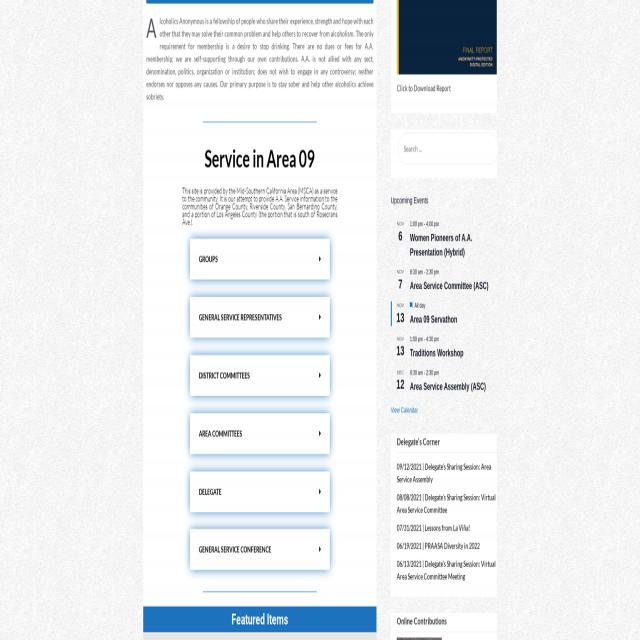button: (397, 0, 497, 75), (190, 355, 330, 398), (189, 412, 330, 453), (190, 237, 330, 278), (189, 529, 331, 569), (190, 298, 330, 338), (190, 472, 329, 512)
field: (398, 132, 498, 165)
